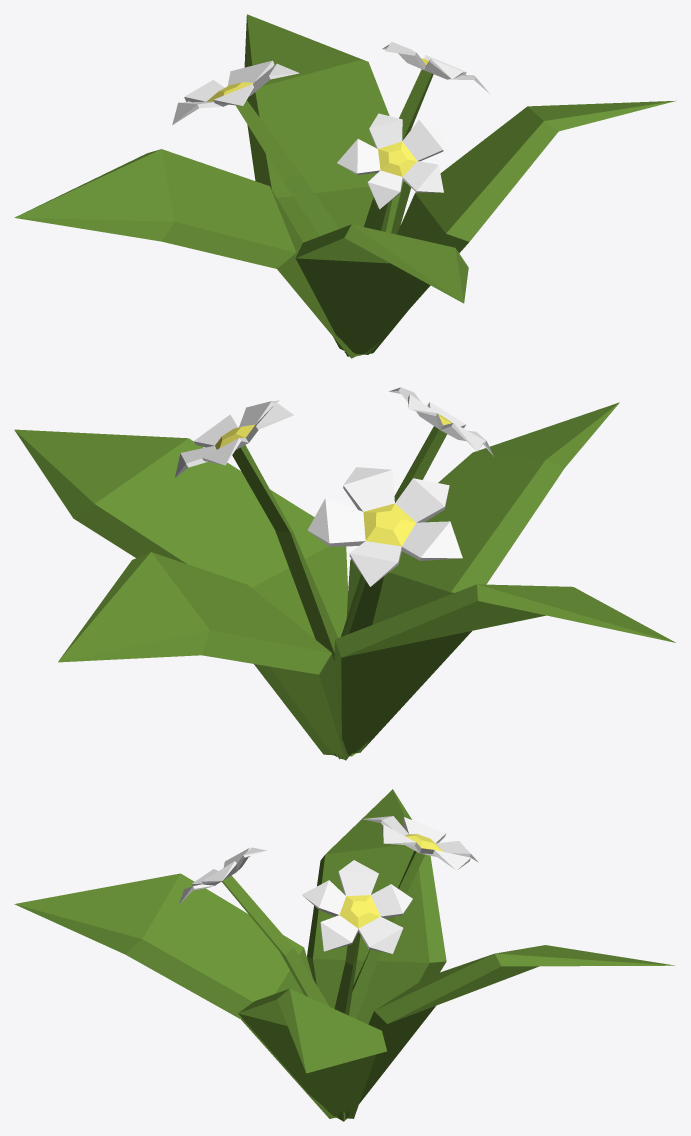
The model's file is flower3.obj.
3 renders of one model, top to bottom at view 1: azimuth 30°, elevation 25°; view 2: azimuth 150°, elevation 25°; view 3: azimuth 270°, elevation 25°, orthographic. The views are drawn at different scales.
Visible parts, largest first — view 1: Flower_bush_white_Plane.023; view 2: Flower_bush_white_Plane.023; view 3: Flower_bush_white_Plane.023.
Part boxes in pixels (x1,y1,x2,y2): Flower_bush_white_Plane.023: [14, 14, 676, 358]; Flower_bush_white_Plane.023: [14, 387, 675, 760]; Flower_bush_white_Plane.023: [14, 789, 674, 1121].
Bounding box in the file's own units: 1.41 × 0.6249 × 1.39.
